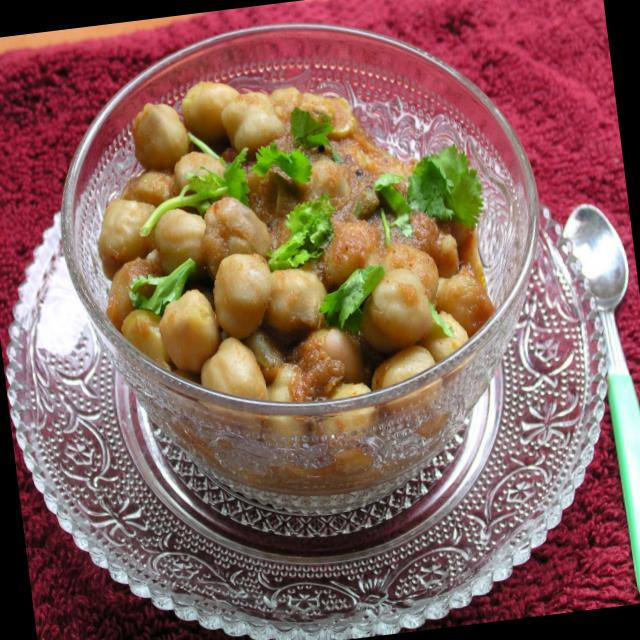Chole: (80, 49, 514, 518)
